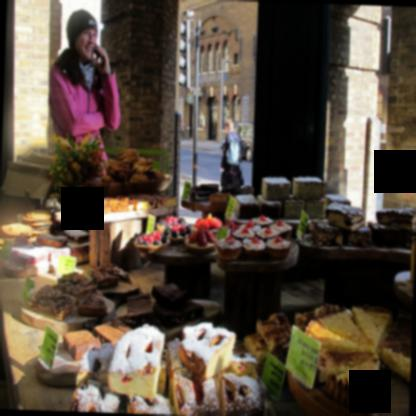backpack: (226, 133, 240, 166)
